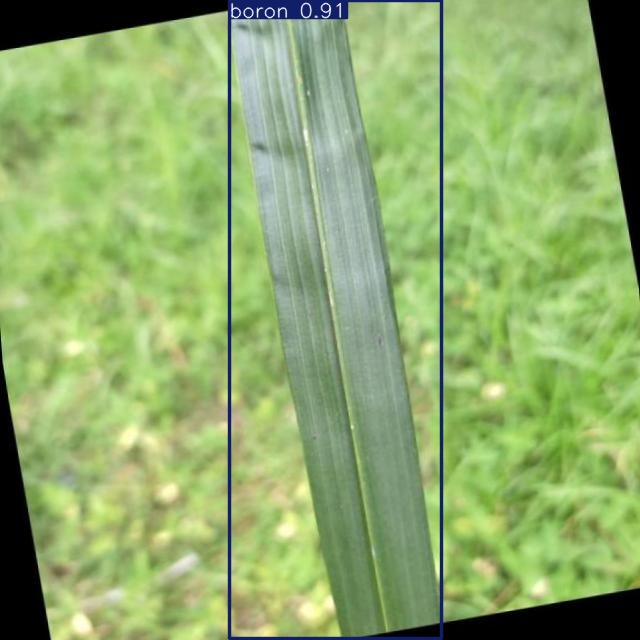nitrogen: (230, 0, 441, 638)
